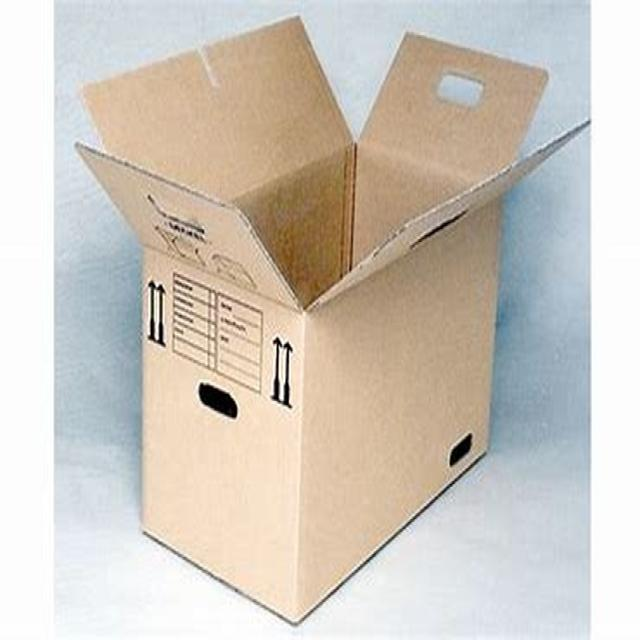box: (300, 125, 589, 628), (80, 17, 350, 204), (144, 256, 306, 532), (350, 28, 546, 194), (226, 148, 355, 309), (347, 159, 467, 275)
